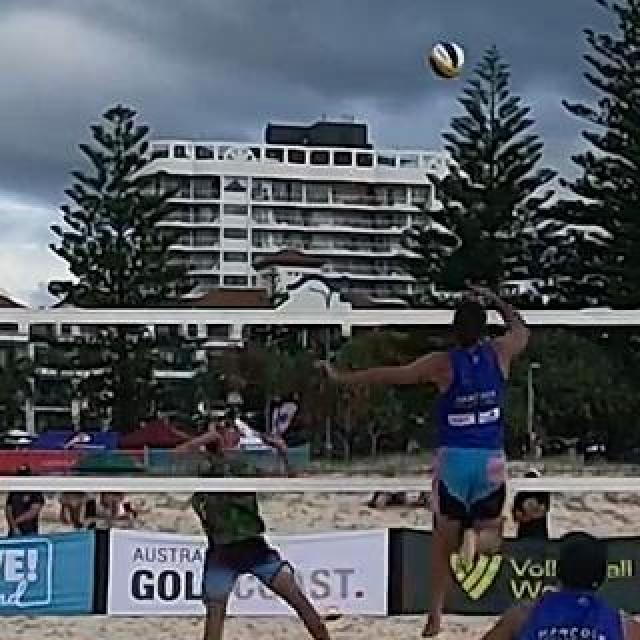volleyball: (429, 42, 465, 78)
